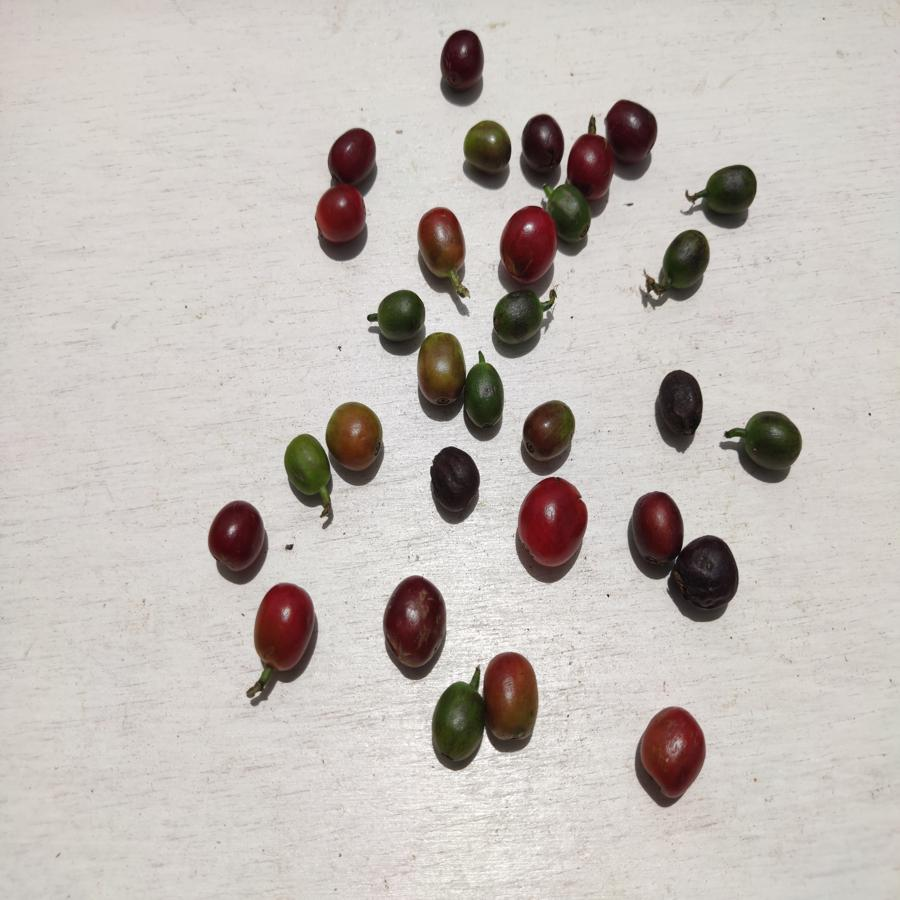Inmaduro: (431, 681, 485, 770), (738, 409, 805, 474), (491, 286, 552, 349), (283, 433, 331, 509), (696, 163, 759, 215), (658, 231, 711, 291), (369, 287, 426, 339), (466, 362, 506, 431), (552, 185, 591, 243)
Maduro: (636, 702, 710, 804), (517, 473, 590, 575), (254, 584, 319, 680), (498, 208, 554, 281), (311, 186, 373, 251), (567, 135, 614, 199)
Pinton: (482, 649, 543, 749), (326, 403, 391, 472), (418, 204, 470, 283), (415, 333, 465, 411), (521, 401, 576, 460), (461, 121, 513, 180)
Sobremaduro: (383, 574, 447, 668), (674, 532, 741, 612), (208, 499, 269, 574), (626, 488, 686, 563), (426, 443, 482, 515), (608, 95, 659, 162), (656, 371, 705, 438), (326, 123, 375, 180), (440, 28, 484, 90), (519, 115, 565, 173)
